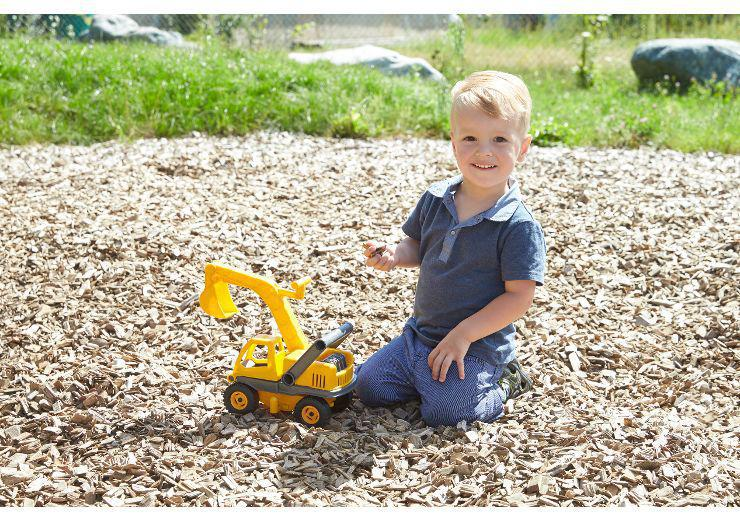child: (330, 61, 559, 424)
